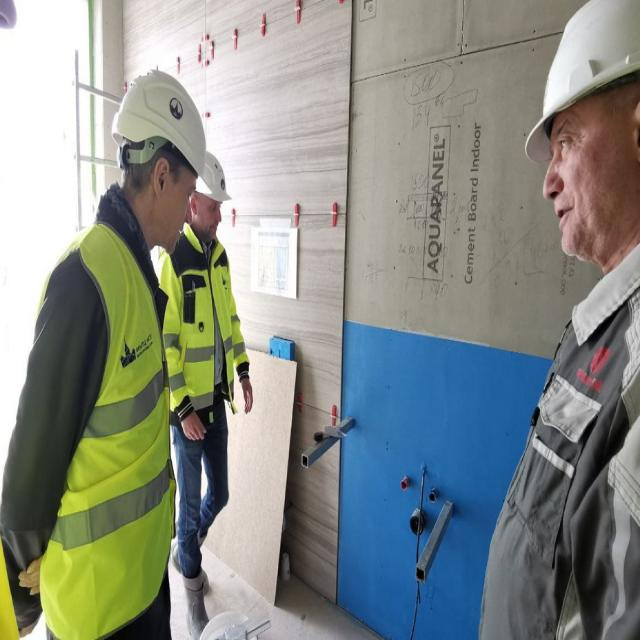Helmet: (524, 1, 640, 278), (110, 67, 211, 261), (183, 149, 233, 238)
